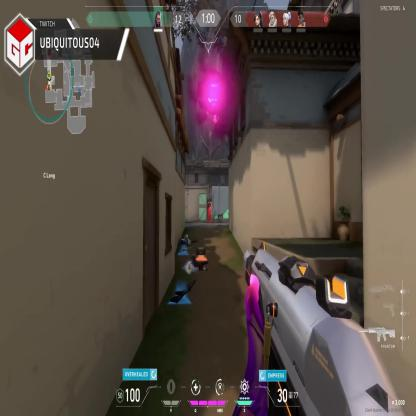enemy: (207, 203, 212, 222)
enemy_head: (208, 204, 210, 208)
